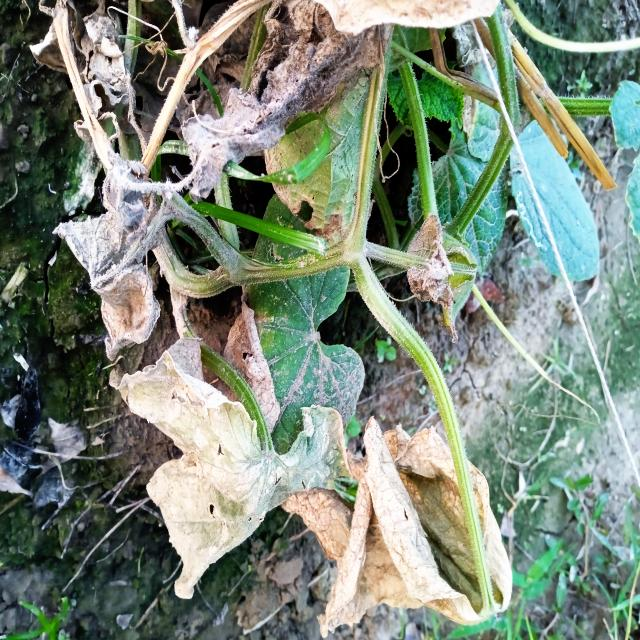Bacterial-Wilt: (108, 336, 354, 601), (281, 415, 514, 638)
